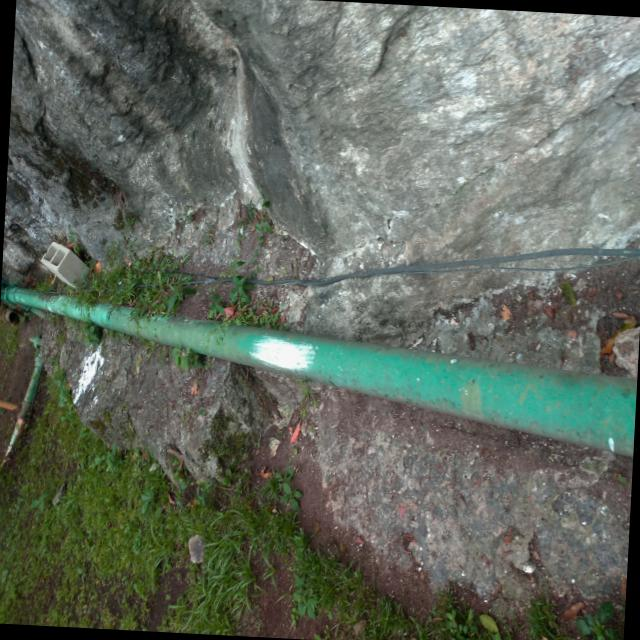gas: (4, 286, 637, 458), (2, 342, 50, 470)
